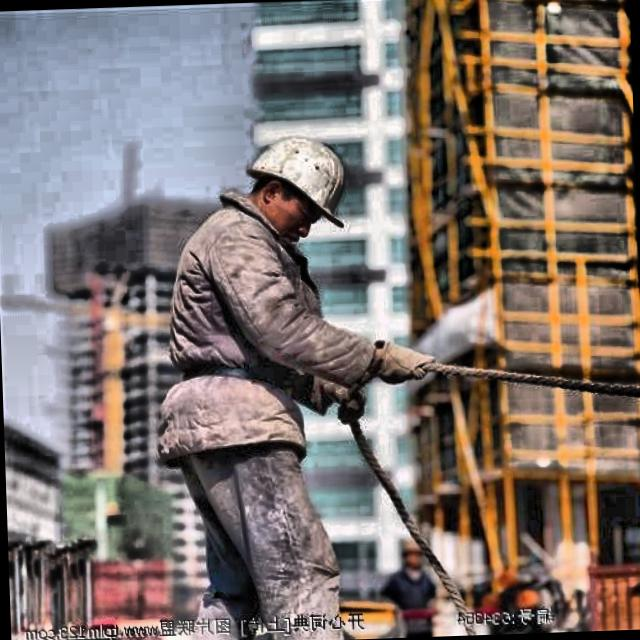helmet: (228, 122, 368, 252)
